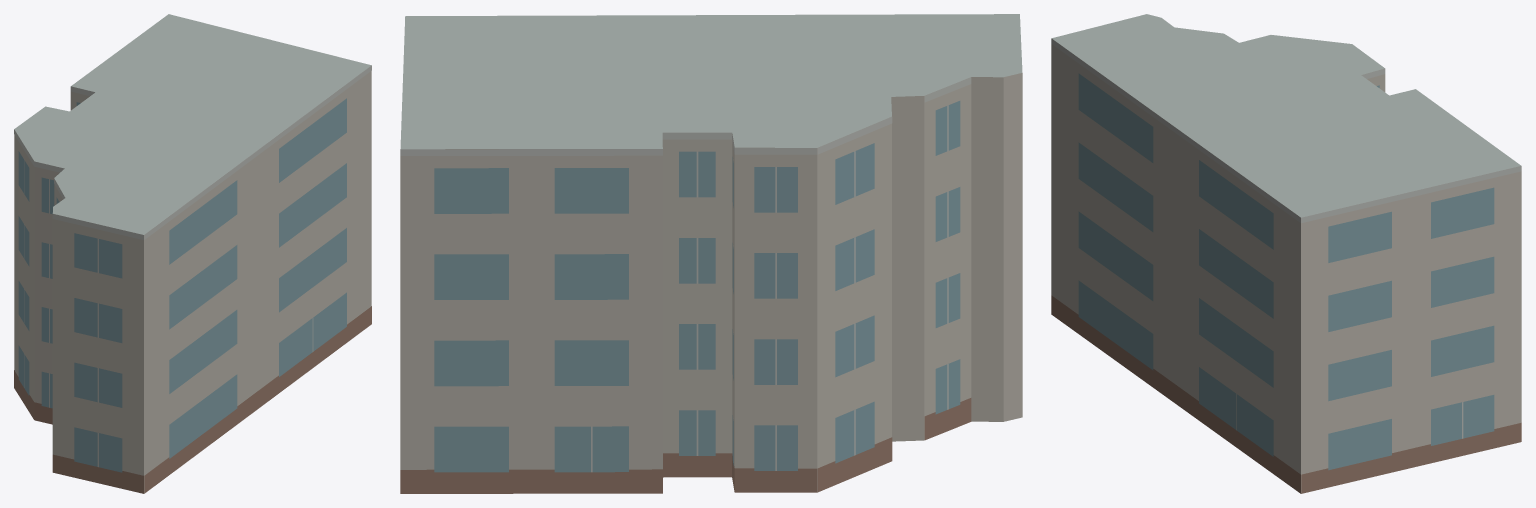
File: survey-upis-32818583.glb
3 views of the same model, side by side, from view 1: azimuth 30°, elevation 25°; view 2: azimuth 150°, elevation 25°; view 3: azimuth 270°, elevation 25° (orthographic). The views are drawn at different scales.
Parts seen in each view (by area): view 1: survey-upis-32818583.tmp; view 2: survey-upis-32818583.tmp; view 3: survey-upis-32818583.tmp.
Part boxes in pixels (x1,y1,x2,y2): survey-upis-32818583.tmp: (14, 14, 371, 493); survey-upis-32818583.tmp: (400, 14, 1022, 493); survey-upis-32818583.tmp: (1051, 14, 1521, 493).
Size of the model in its own units: 19.15 by 12.1 by 18.68.
